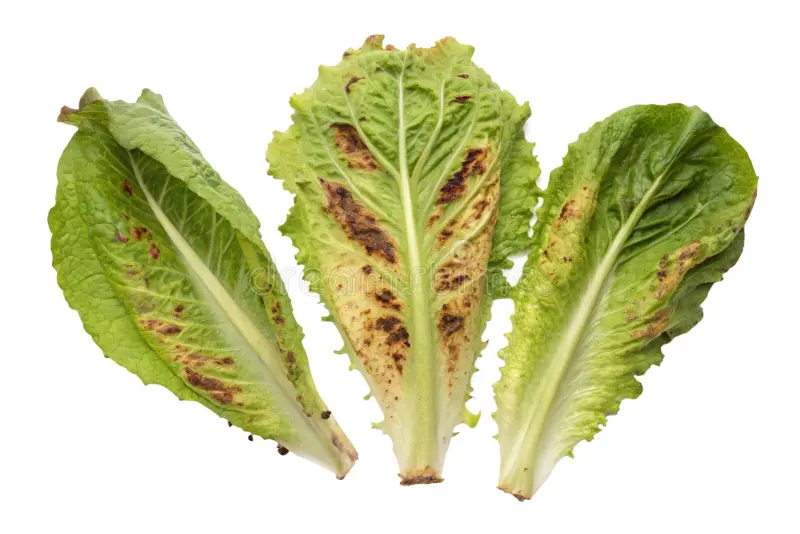lettuce rotten: (30, 6, 714, 481)
